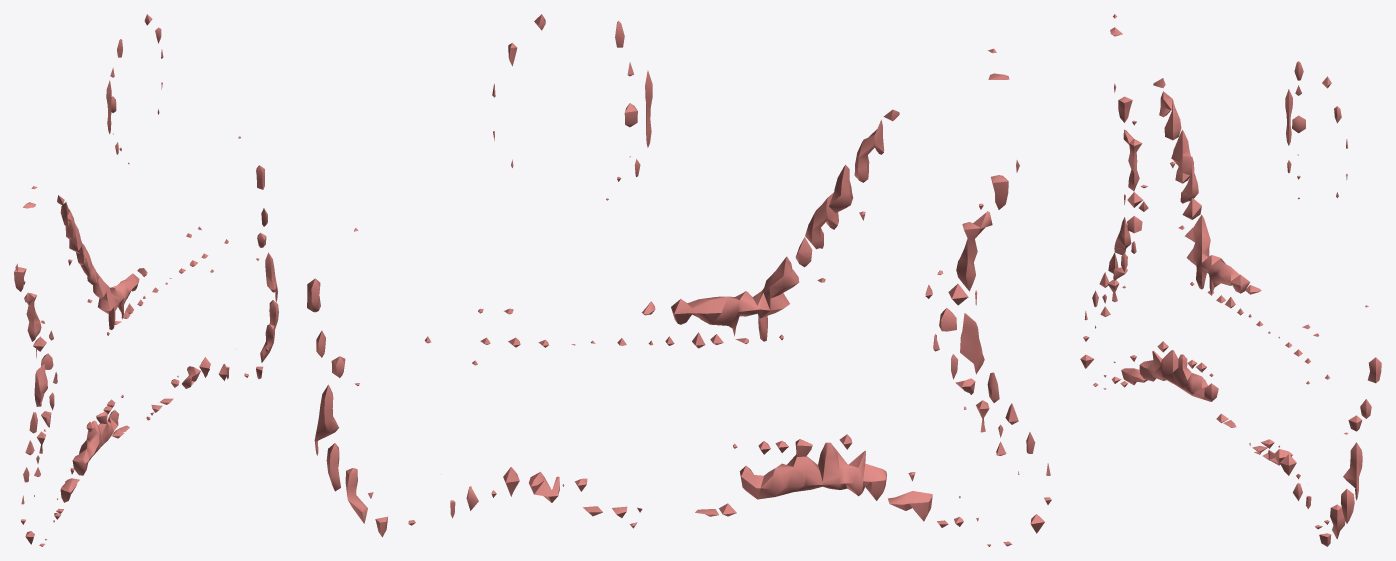
File: envelope.mollified.dcfs.+.glb
3 renders of one model, left to right at view 1: azimuth 30°, elevation 25°; view 2: azimuth 150°, elevation 25°; view 3: azimuth 270°, elevation 25°, orthographic. The views are drawn at different scales.
Parts seen in each view (by area): view 1: envelope.mollified.dcfs.+; view 2: envelope.mollified.dcfs.+; view 3: envelope.mollified.dcfs.+.
Part boxes in pixels (left/top/right/bottom): envelope.mollified.dcfs.+: left=14, top=14, right=278, bottom=546; envelope.mollified.dcfs.+: left=307, top=14, right=1051, bottom=546; envelope.mollified.dcfs.+: left=1080, top=14, right=1381, bottom=546.
Size of the model in its own units: 9.71 by 9.61 by 6.24.
